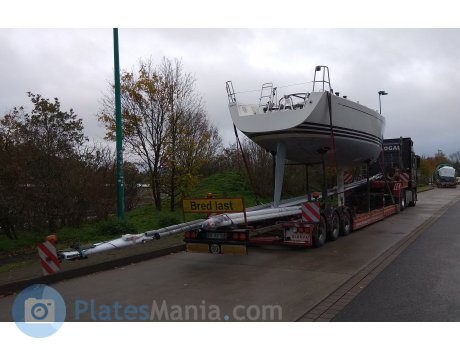License Plates: (284, 229, 314, 241)
